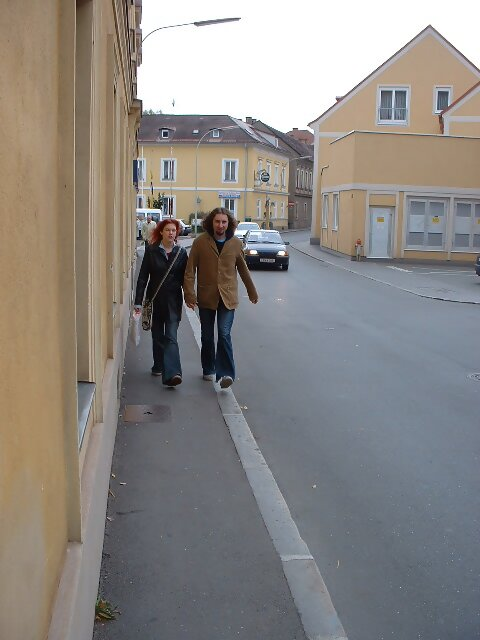person: (127, 212, 207, 398), (188, 206, 263, 388)
